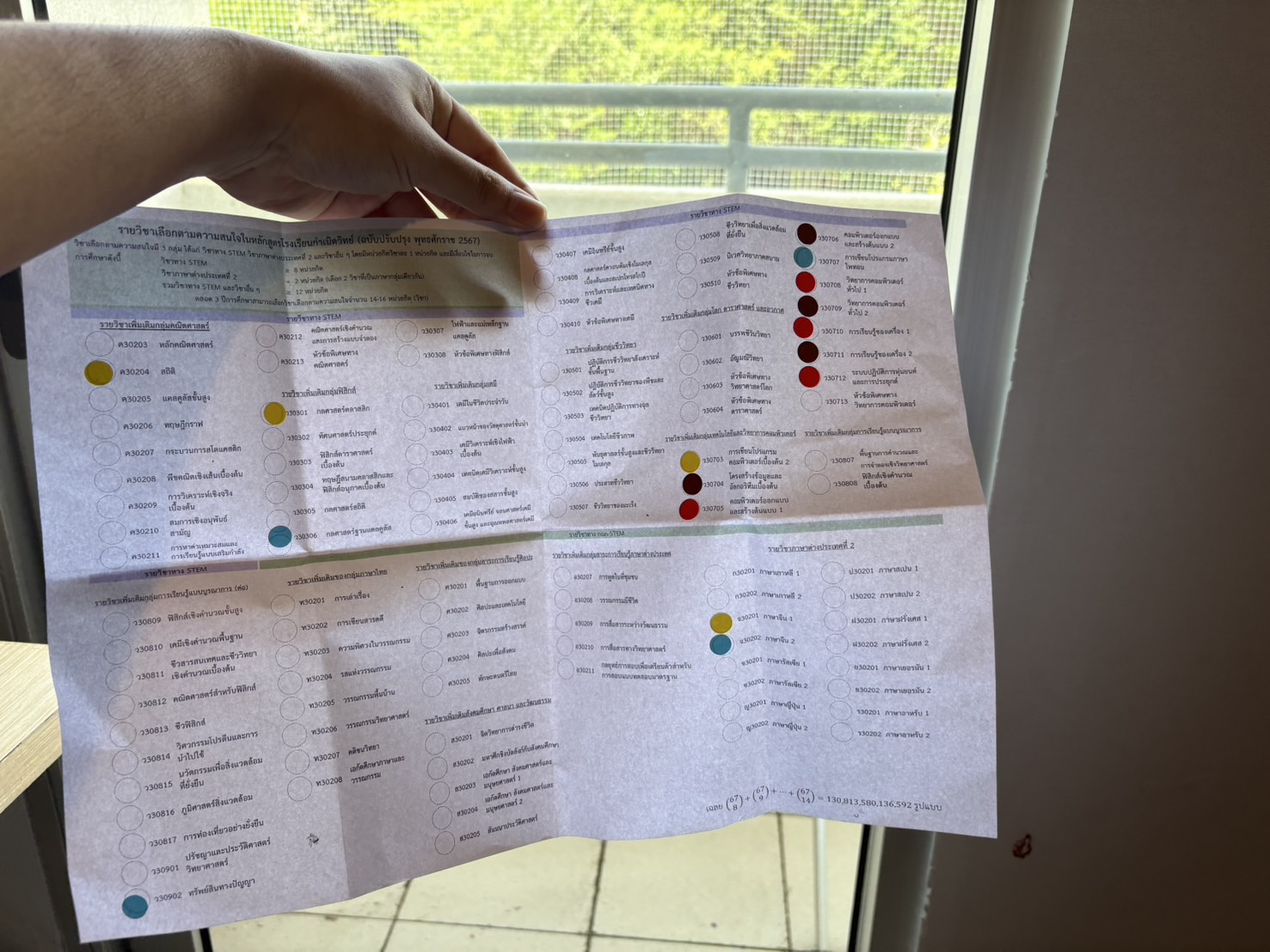paper: (21, 192, 999, 944)
